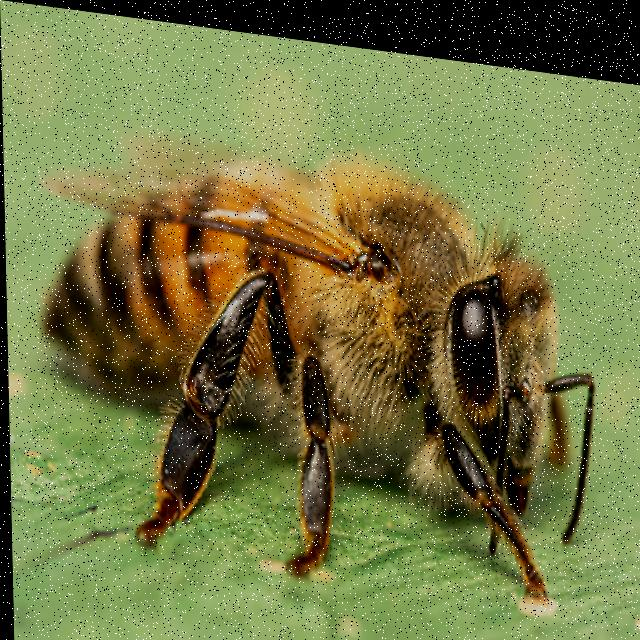Apis-mellifera-scutellata: (33, 63, 603, 607)
